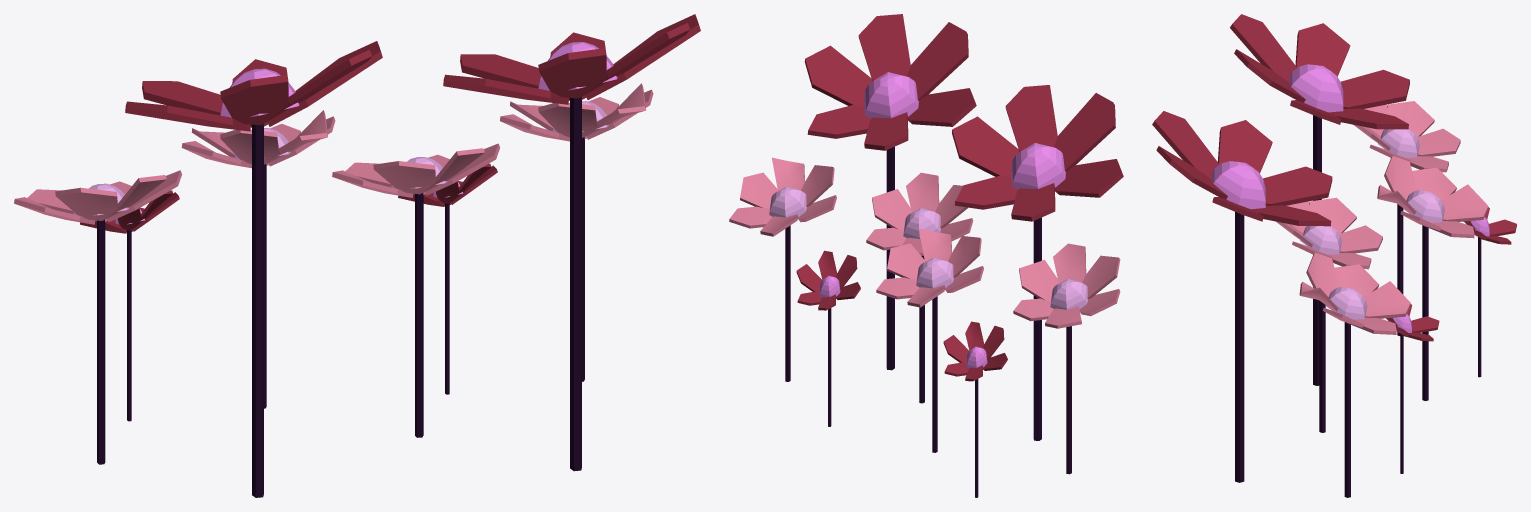
Rendered from Flowers1.fbx.
3 renders of one model, left to right at view 1: azimuth 30°, elevation 25°; view 2: azimuth 150°, elevation 25°; view 3: azimuth 270°, elevation 25°, orthographic. The views are drawn at different scales.
Parts seen in each view (by area): view 1: polySurface6; view 2: polySurface6; view 3: polySurface6.
Part boxes in pixels (box(x1,y1,x2,y2)): polySurface6: box(14, 14, 700, 497); polySurface6: box(729, 14, 1123, 497); polySurface6: box(1152, 14, 1516, 497).
Bounding box in the file's own units: 4.96 × 3.76 × 3.55.
